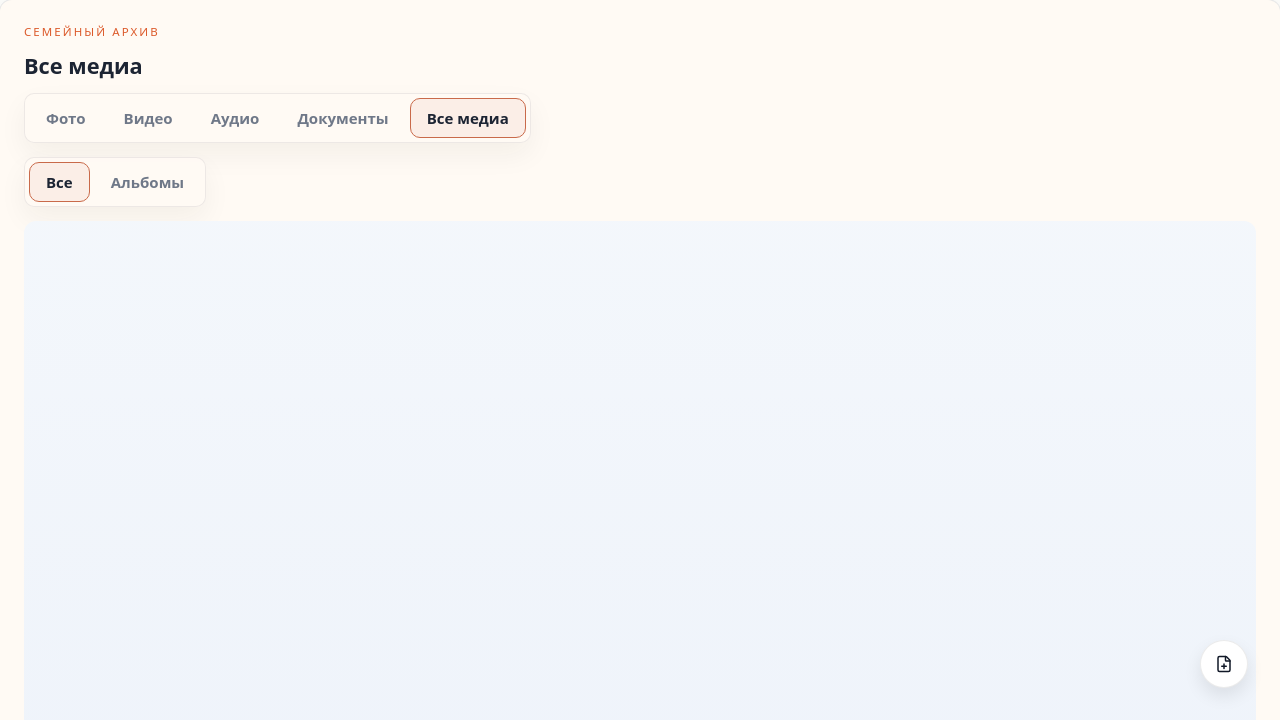
Test: tree media archive client › shows a photo-only count label on album cards without the generic materials wording
What coordinates should you click on to do the following:
click the tab "Альбомы"
I would click on:
 (147, 182)
Its box is [94, 162, 201, 202].
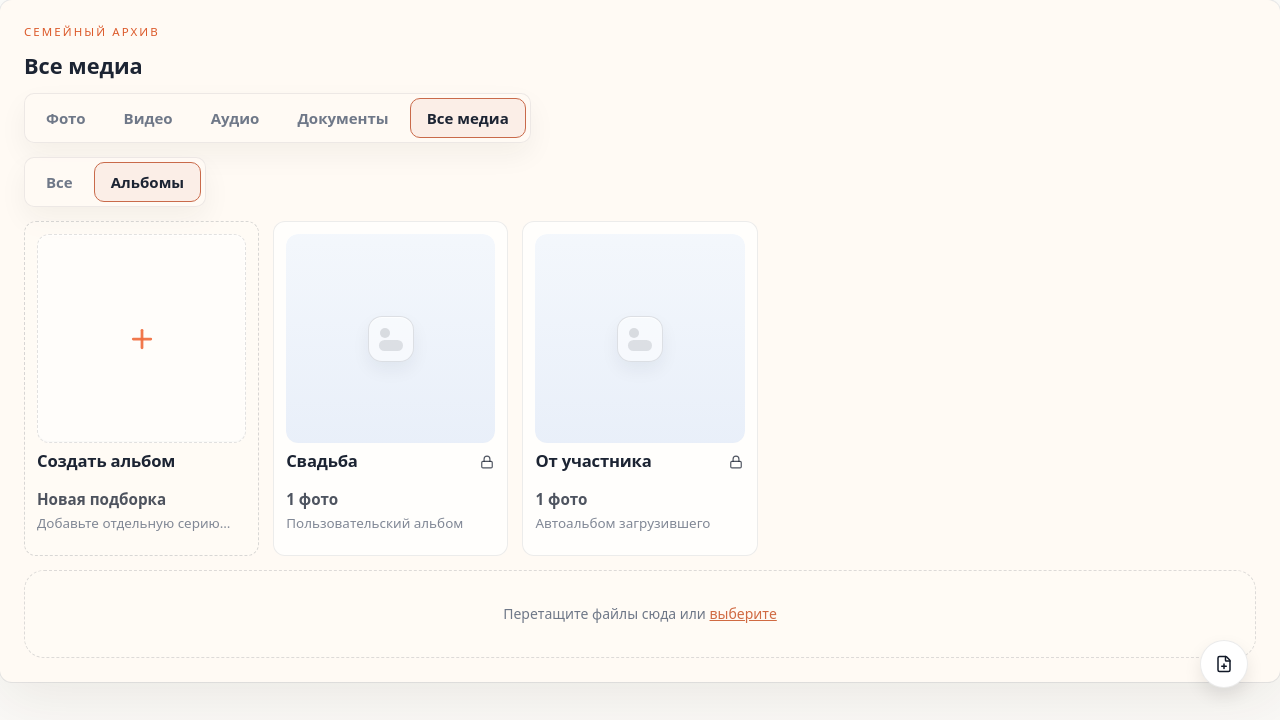
Expected: the button "Свадьба 1 фото Пользовательский альбом" does not show "материал", [273, 221, 508, 556]
Expected: the button "Свадьба 1 фото Пользовательский альбом" is shown, [273, 221, 508, 556]
